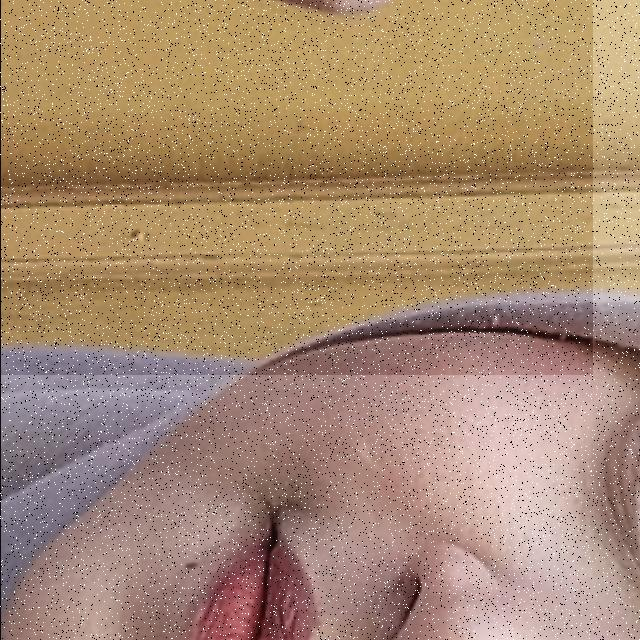baik: (0, 0, 592, 375)
